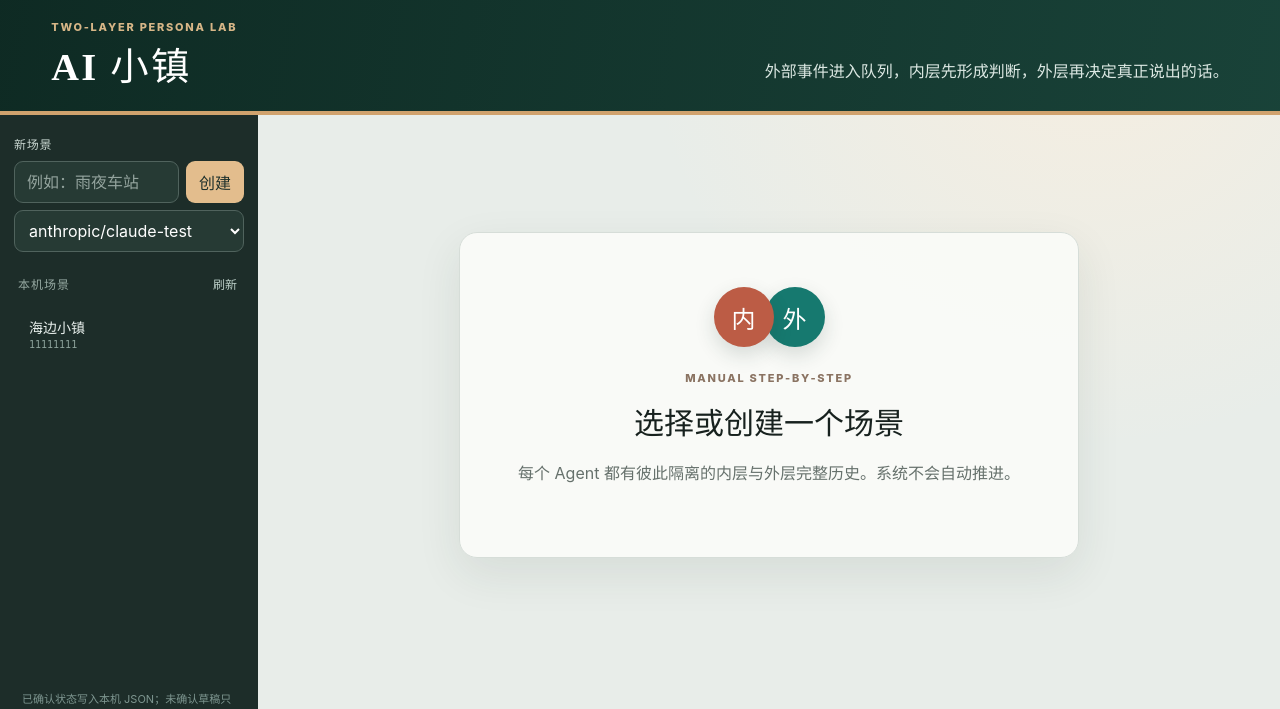
Test: App › rejects scene responses with fields outside the contract
Click the button "海边小镇 11111111".
click(113, 334)  # box x1=19 y1=308 x2=207 y2=359
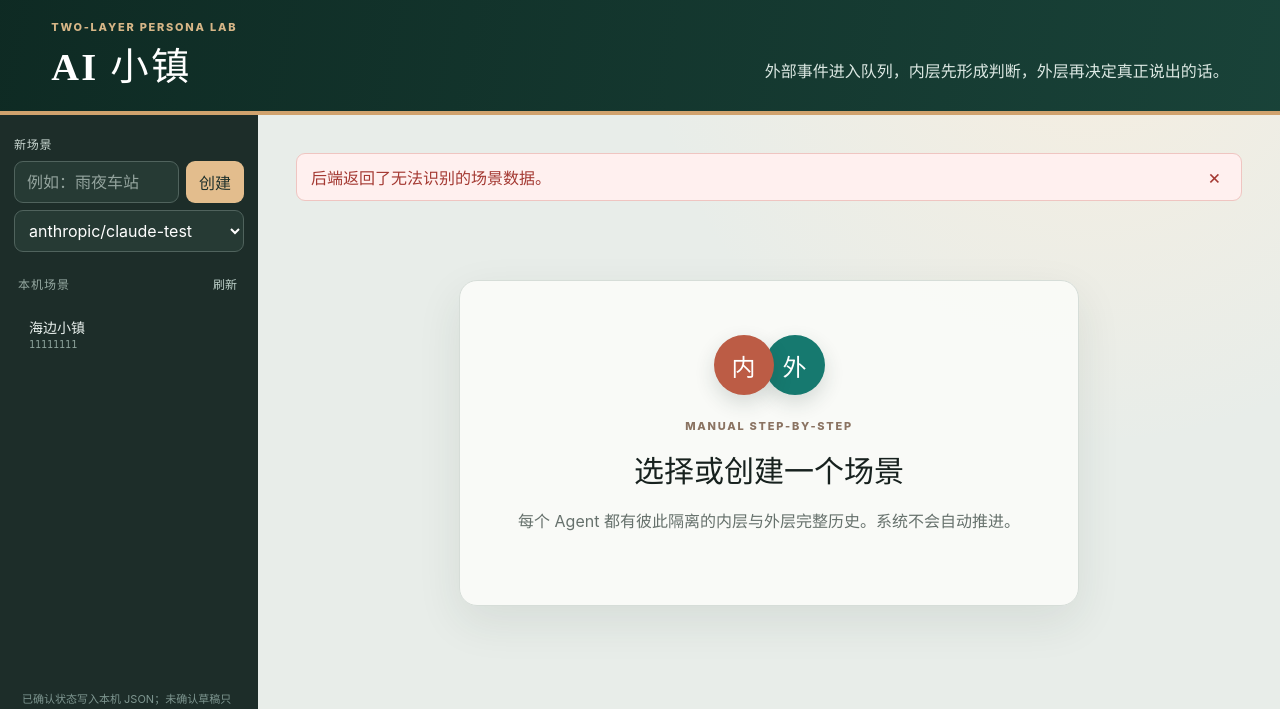
Result: the text "后端返回了无法识别的场景数据。" is shown at x1=311 y1=165 x2=551 y2=189
